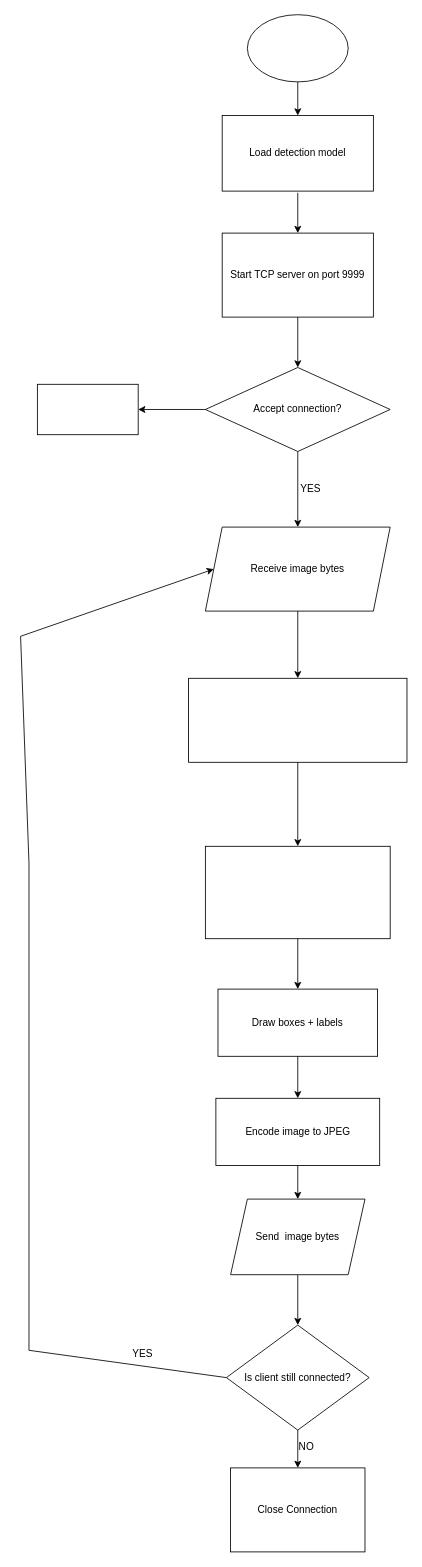
The diagram is 422 pixels wide and 1567 high, and some of its shapes have lost their labels. Here are the shapes that lost their labels. From the top down, the centre of each, then its label:
At [297,48]: "Start".
At [87,409]: "End server".
At [297,719]: "Decode image using OpenCV".
At [297,892]: "Resize & Run detection model".
